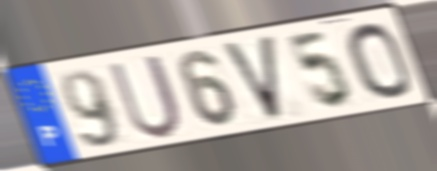5: (283, 26, 353, 111)
6: (175, 47, 238, 131)
9: (59, 67, 123, 150)
O: (343, 20, 415, 100)
U: (105, 50, 184, 142)
V: (218, 31, 285, 124)
